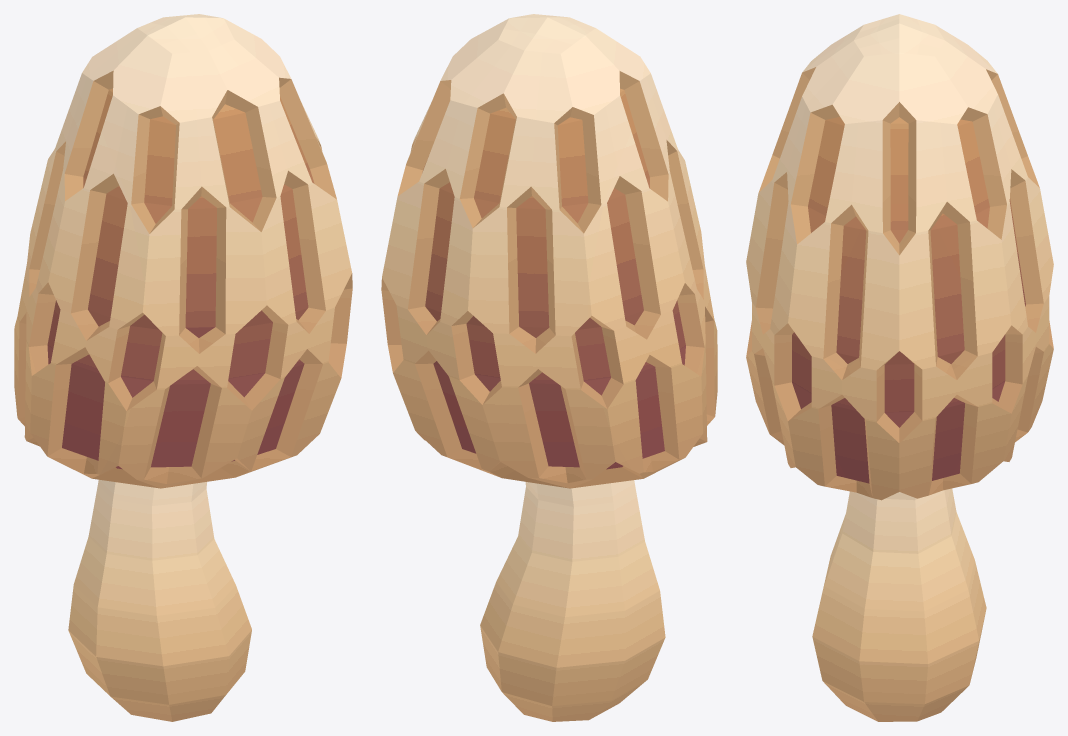
Rendered from Morel_Large.glb.
3 views of the same model, side by side, from view 1: azimuth 30°, elevation 25°; view 2: azimuth 150°, elevation 25°; view 3: azimuth 270°, elevation 25° (orthographic).
Visible parts, largest first — view 1: Cube; view 2: Cube; view 3: Cube.
Part boxes in pixels (left/top/right/bottom): Cube: left=14, top=14, right=352, bottom=721; Cube: left=381, top=14, right=717, bottom=721; Cube: left=746, top=14, right=1053, bottom=721.
Bounding box in the file's own units: 3.67 × 7.89 × 3.15.
1 material, 1 textured.
